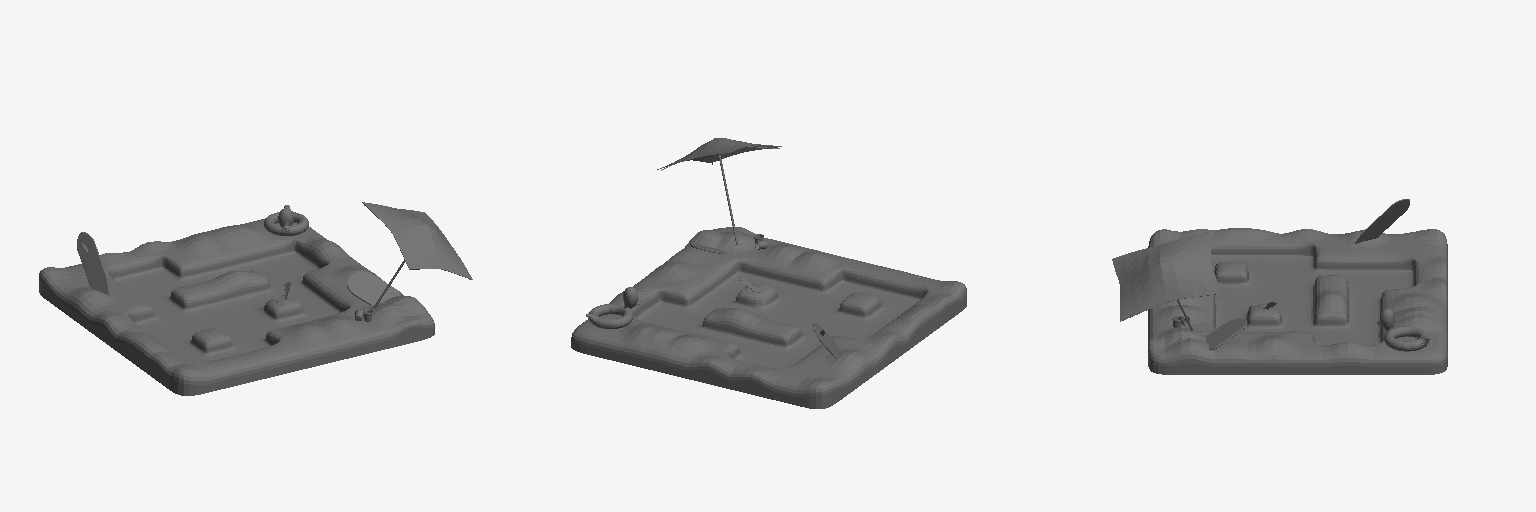
The model's file is lvl3.obj.
3 views of the same model, side by side, from view 1: azimuth 30°, elevation 25°; view 2: azimuth 150°, elevation 25°; view 3: azimuth 270°, elevation 25° (orthographic).
Parts seen in each view (by area): view 1: Plane001; view 2: Plane001; view 3: Plane001.
Boxes of the visible parts, x1=… form: Plane001: x1=39, y1=202, x2=472, y2=395; Plane001: x1=571, y1=138, x2=966, y2=408; Plane001: x1=1112, y1=199, x2=1447, y2=374.
Bounding box in the file's own units: 8.78 × 3.63 × 9.12.